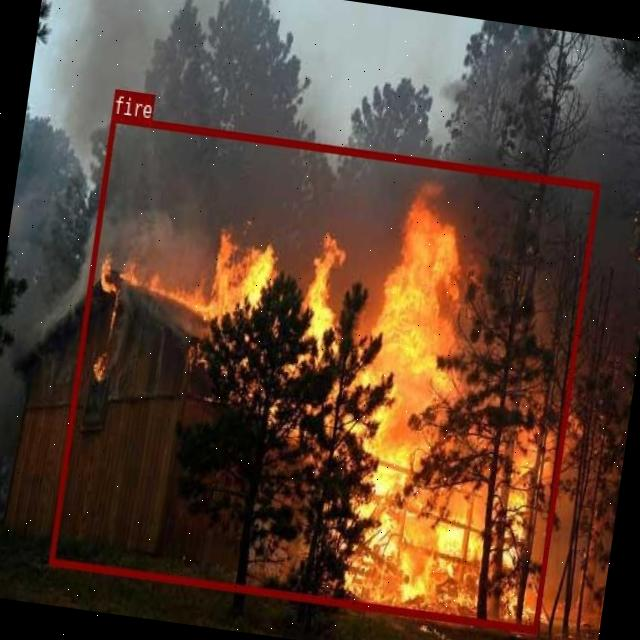fire: (49, 114, 600, 633)
